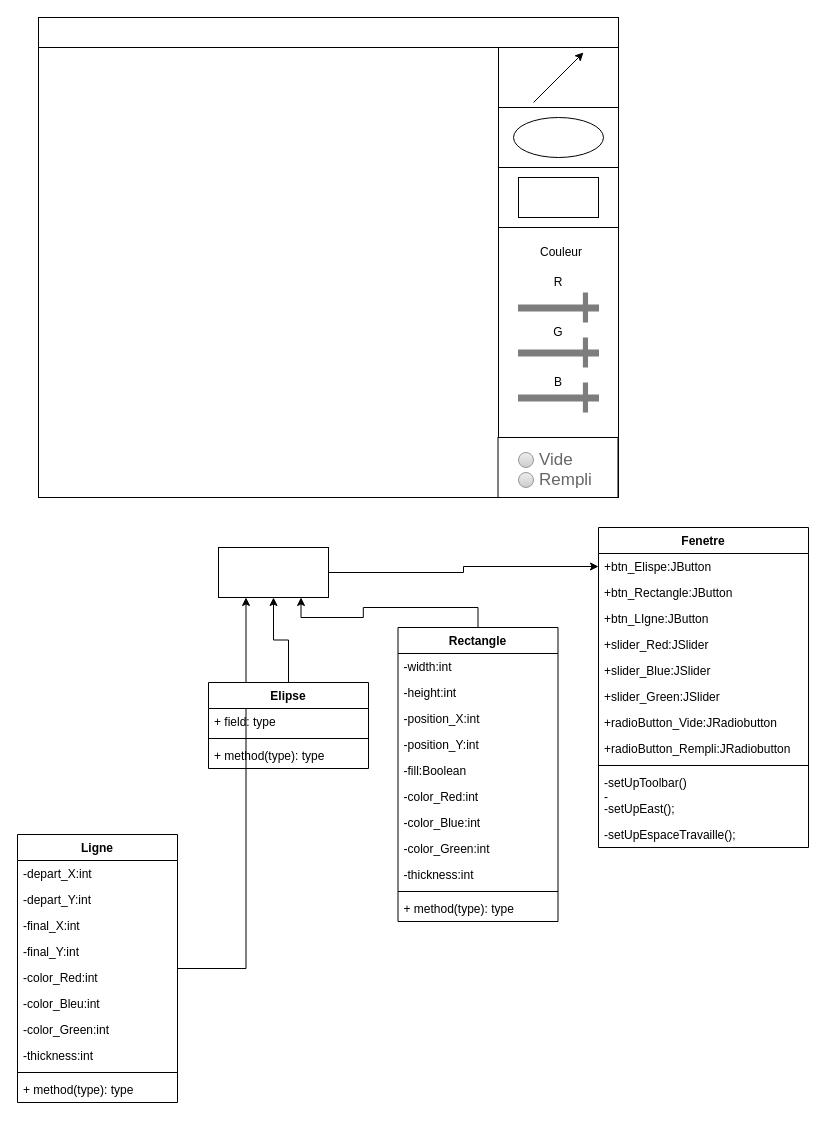
The diagram is 826 pixels wide and 1123 high, and some of its shapes have lost their labels. The shapes that lost their labels are listed below. From the top down, each one's centre as x and y in pixels, then its label:
At pixel 328 32: "Fichier".
At pixel 273 572: "«interface» Forme".
